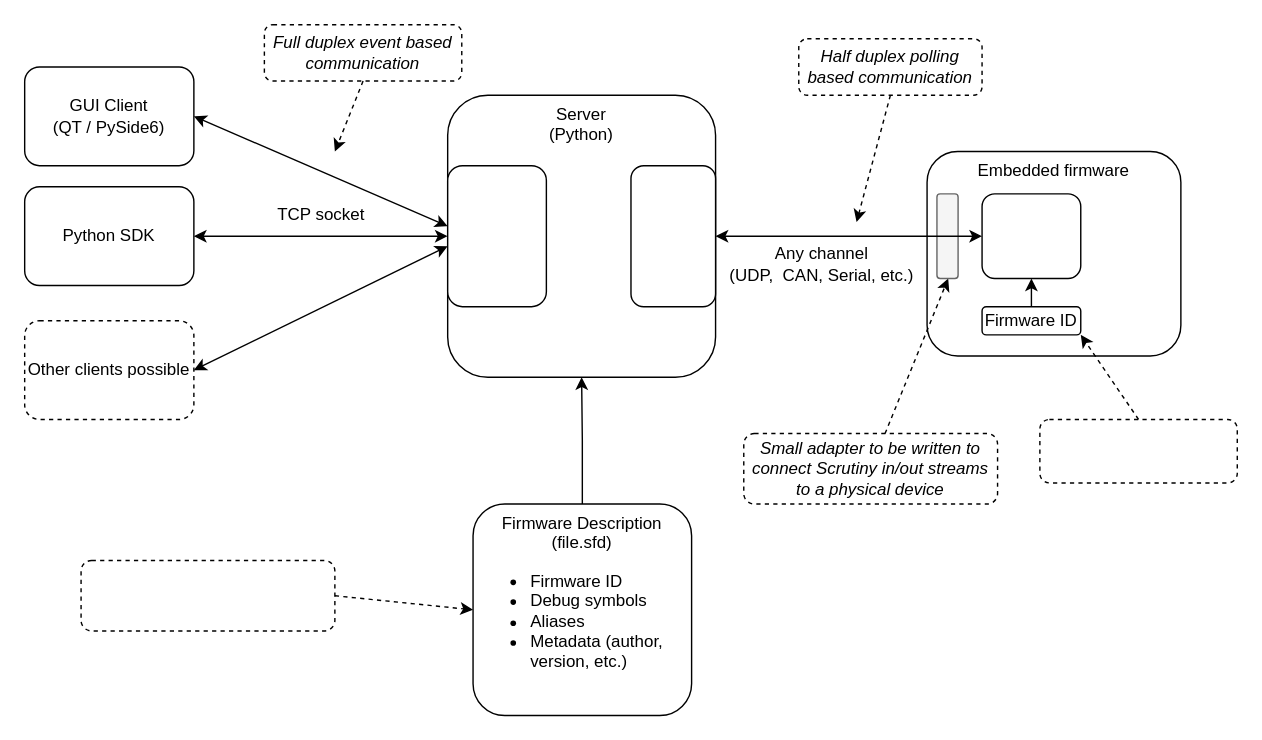
Some shapes in this 1262 by 740 pixel diagram are drawn without their labels. The shapes that lost their labels are listed below. From the top down, each one's centre as x and y in pixels, then its label:
the point at 496,235: Multiclient websocket API
the point at 673,235: Device Handler
the point at 1031,235: Scrutiny lib (C++11)
the point at 1137,450: Unique ID injected in binary at build time
the point at 207,595: Automatically loaded upon connection with the device (based on Firmware ID)
